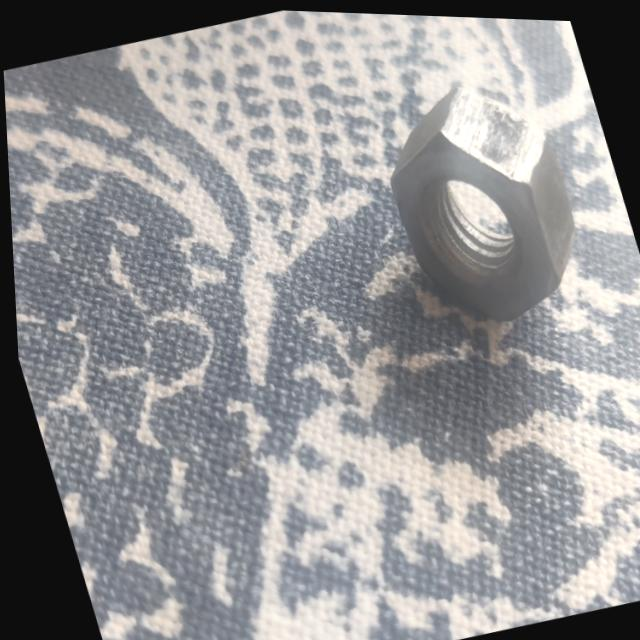disinfected nut: (390, 80, 572, 317)
